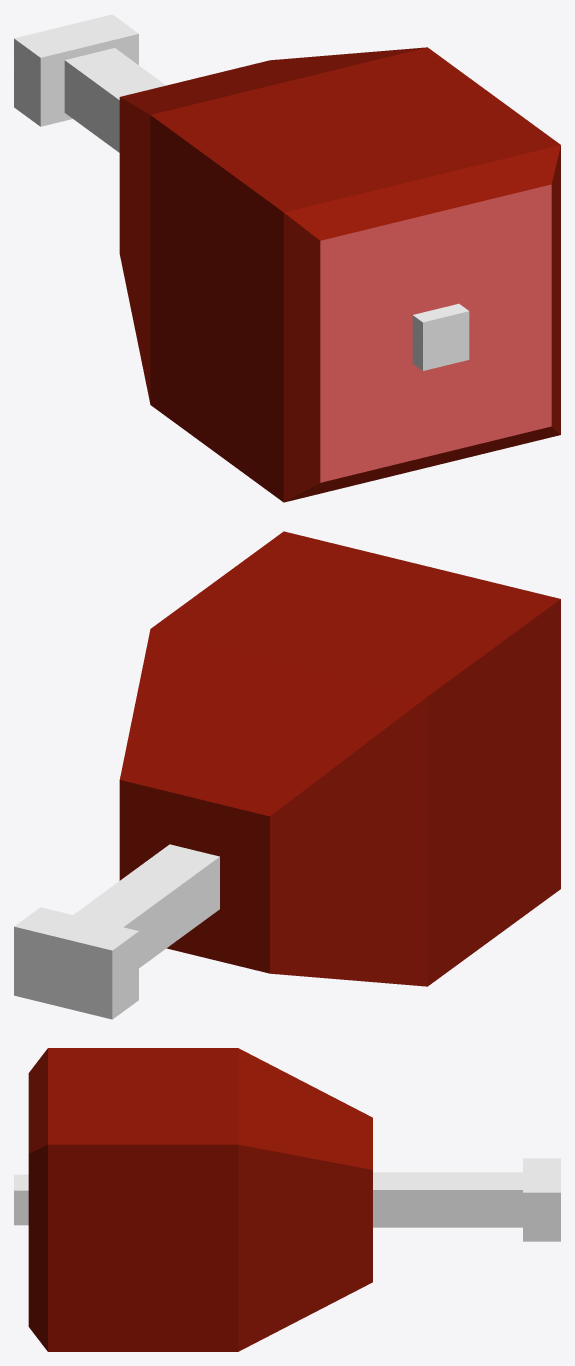
Rendered from food.fbx.
The picture shows the model from 3 angles, top to bottom: view 1: azimuth 30°, elevation 25°; view 2: azimuth 150°, elevation 25°; view 3: azimuth 270°, elevation 25°; orthographic projection. The views are drawn at different scales.
Visible parts, largest first — view 1: Cube; view 2: Cube; view 3: Cube.
Part boxes in pixels (x1=…): Cube: x1=14, y1=14, x2=560, y2=502; Cube: x1=14, y1=531, x2=560, y2=1019; Cube: x1=14, y1=1048, x2=560, y2=1351.
Size of the model in its own units: 185 by 185 by 442.
